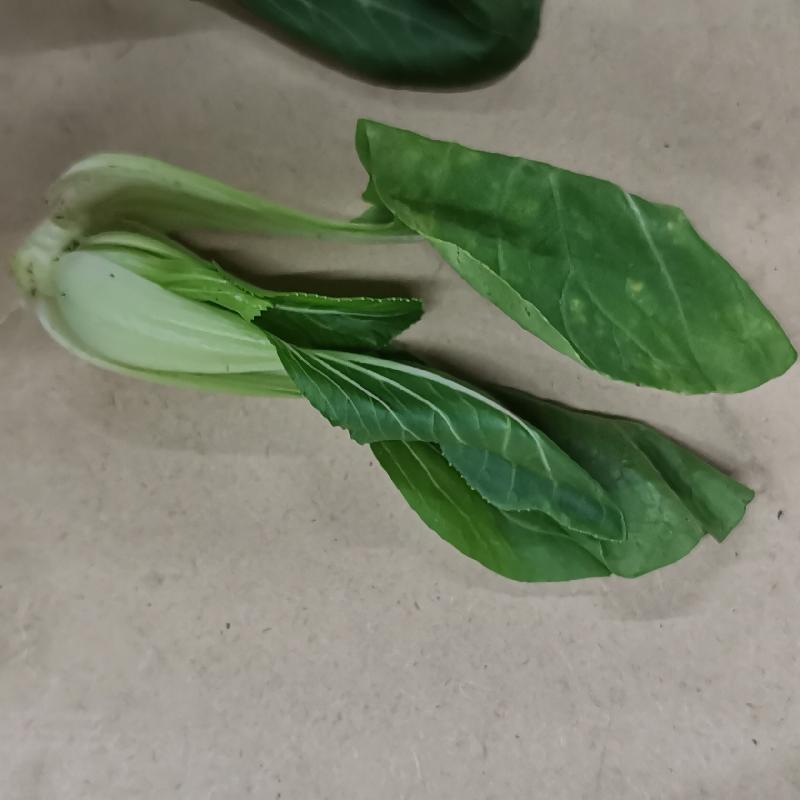green vegatable: (8, 109, 799, 589)
